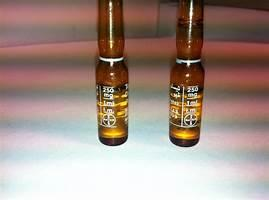Syringe: (93, 1, 136, 151), (164, 4, 208, 150)
